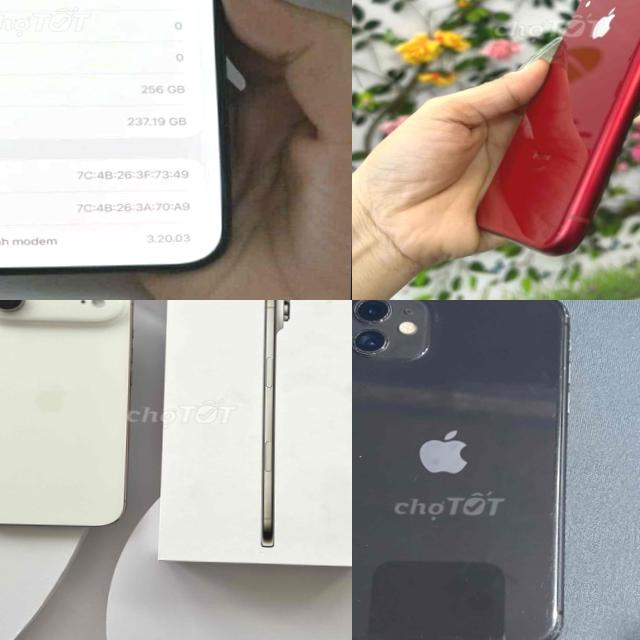gen_11: (352, 300, 569, 640)
gen_15: (0, 0, 244, 287)
gen_17: (0, 300, 140, 531)
gen_x_xs: (467, 0, 640, 260)
scratch: (352, 631, 532, 640), (556, 308, 573, 357), (533, 582, 563, 608), (461, 582, 487, 608), (402, 471, 428, 491), (542, 604, 560, 632), (542, 557, 566, 576), (356, 382, 379, 401), (540, 543, 566, 558), (544, 472, 569, 487), (548, 440, 570, 457), (352, 447, 370, 467), (534, 627, 559, 640), (425, 310, 445, 326), (550, 504, 564, 526), (498, 585, 516, 601), (401, 613, 423, 626), (411, 300, 433, 312), (375, 341, 392, 356), (369, 316, 388, 329), (554, 369, 569, 385), (540, 490, 564, 500), (367, 349, 386, 361), (552, 405, 565, 421), (494, 628, 511, 640), (460, 572, 474, 586), (352, 502, 366, 516), (518, 605, 530, 621), (352, 325, 363, 340), (415, 631, 433, 640), (358, 540, 378, 548), (352, 596, 366, 606), (354, 300, 366, 311), (445, 634, 464, 640), (480, 634, 497, 640), (528, 616, 538, 626), (371, 300, 390, 303)
